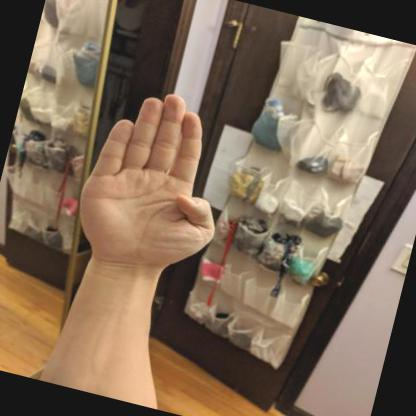B: (80, 94, 215, 276)
